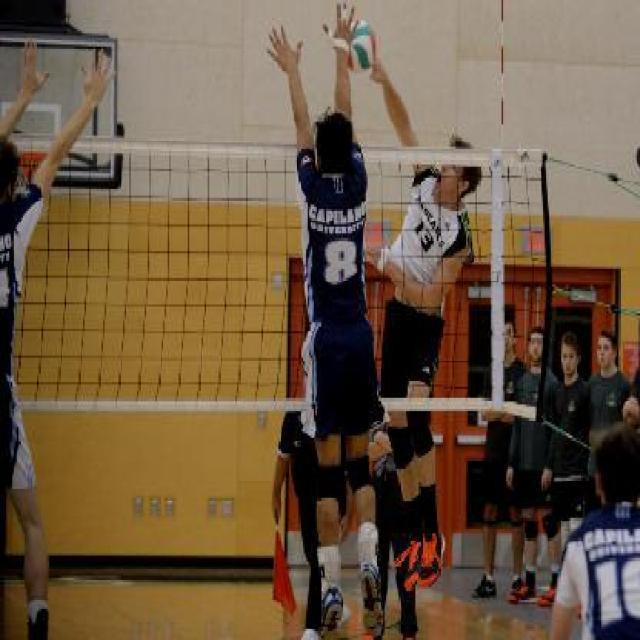volleyball: (347, 20, 379, 72)
